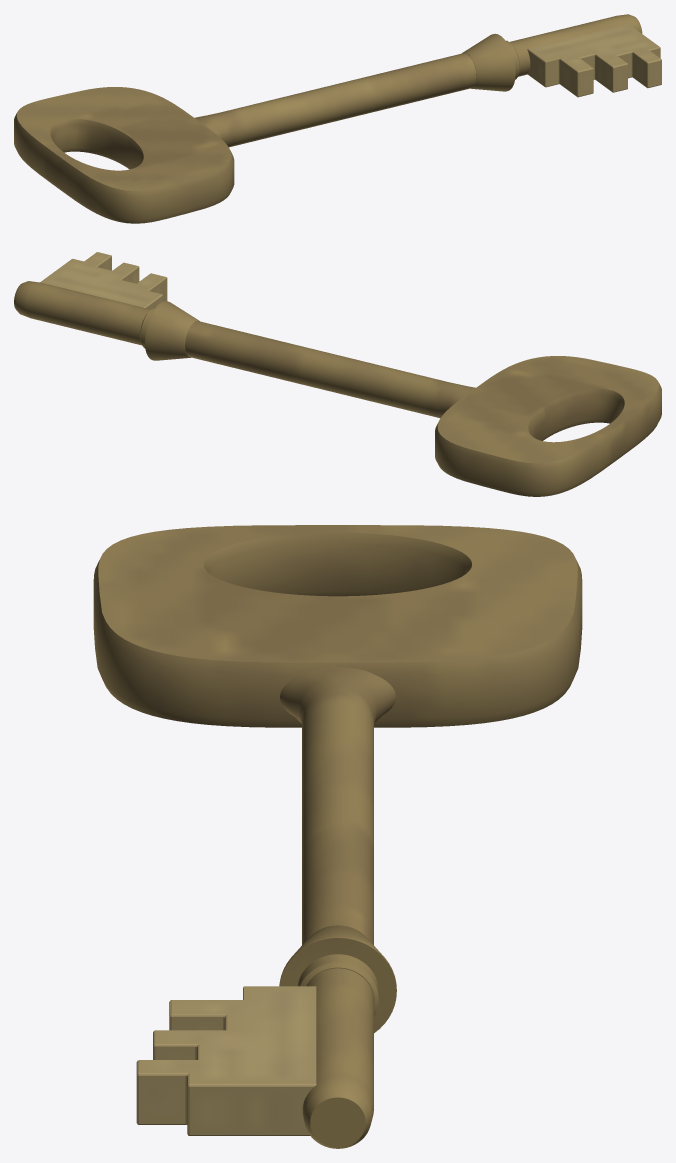
Rendered from Key_Model.fbx.
The picture shows the model from 3 angles, top to bottom: view 1: azimuth 30°, elevation 25°; view 2: azimuth 150°, elevation 25°; view 3: azimuth 270°, elevation 25°; orthographic projection. The views are drawn at different scales.
Visible parts, largest first — view 1: TT_Key_M45_Key__KEY_Forged_Trapezoid_Bow_Offset_Oval, TT_Key_M45_Key__KEY_Forged_Neck_And_Round_Shank, TT_Key_M45_Key__KEY_Cut_Bit_Three_Levels_And_Clearance, TT_Key_M45_Key__KEY_Conical_Registration_Shoulder; view 2: TT_Key_M45_Key__KEY_Forged_Trapezoid_Bow_Offset_Oval, TT_Key_M45_Key__KEY_Forged_Neck_And_Round_Shank, TT_Key_M45_Key__KEY_Cut_Bit_Three_Levels_And_Clearance, TT_Key_M45_Key__KEY_Conical_Registration_Shoulder; view 3: TT_Key_M45_Key__KEY_Forged_Trapezoid_Bow_Offset_Oval, TT_Key_M45_Key__KEY_Forged_Neck_And_Round_Shank, TT_Key_M45_Key__KEY_Cut_Bit_Three_Levels_And_Clearance, TT_Key_M45_Key__KEY_Conical_Registration_Shoulder.
Boxes of the visible parts, <box> form: TT_Key_M45_Key__KEY_Forged_Trapezoid_Bow_Offset_Oval: <box>14,87,234,223</box>; TT_Key_M45_Key__KEY_Forged_Neck_And_Round_Shank: <box>194,14,642,147</box>; TT_Key_M45_Key__KEY_Cut_Bit_Three_Levels_And_Clearance: <box>527,24,661,97</box>; TT_Key_M45_Key__KEY_Conical_Registration_Shoulder: <box>462,33,519,91</box>; TT_Key_M45_Key__KEY_Forged_Trapezoid_Bow_Offset_Oval: <box>435,356,661,496</box>; TT_Key_M45_Key__KEY_Forged_Neck_And_Round_Shank: <box>14,281,475,418</box>; TT_Key_M45_Key__KEY_Cut_Bit_Three_Levels_And_Clearance: <box>40,252,167,309</box>; TT_Key_M45_Key__KEY_Conical_Registration_Shoulder: <box>140,301,199,360</box>; TT_Key_M45_Key__KEY_Forged_Trapezoid_Bow_Offset_Oval: <box>93,525,582,727</box>; TT_Key_M45_Key__KEY_Forged_Neck_And_Round_Shank: <box>280,667,395,1148</box>; TT_Key_M45_Key__KEY_Cut_Bit_Three_Levels_And_Clearance: <box>136,986,316,1135</box>; TT_Key_M45_Key__KEY_Conical_Registration_Shoulder: <box>279,925,396,1032</box>.
Bounding box in the file's own units: 82 × 7.2 × 29.85.
Materials: 2 (2 with a texture image).
